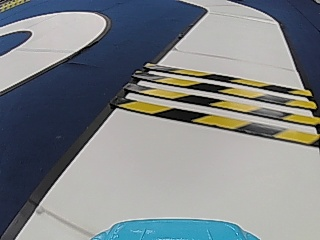bump: (113, 61, 319, 151)
